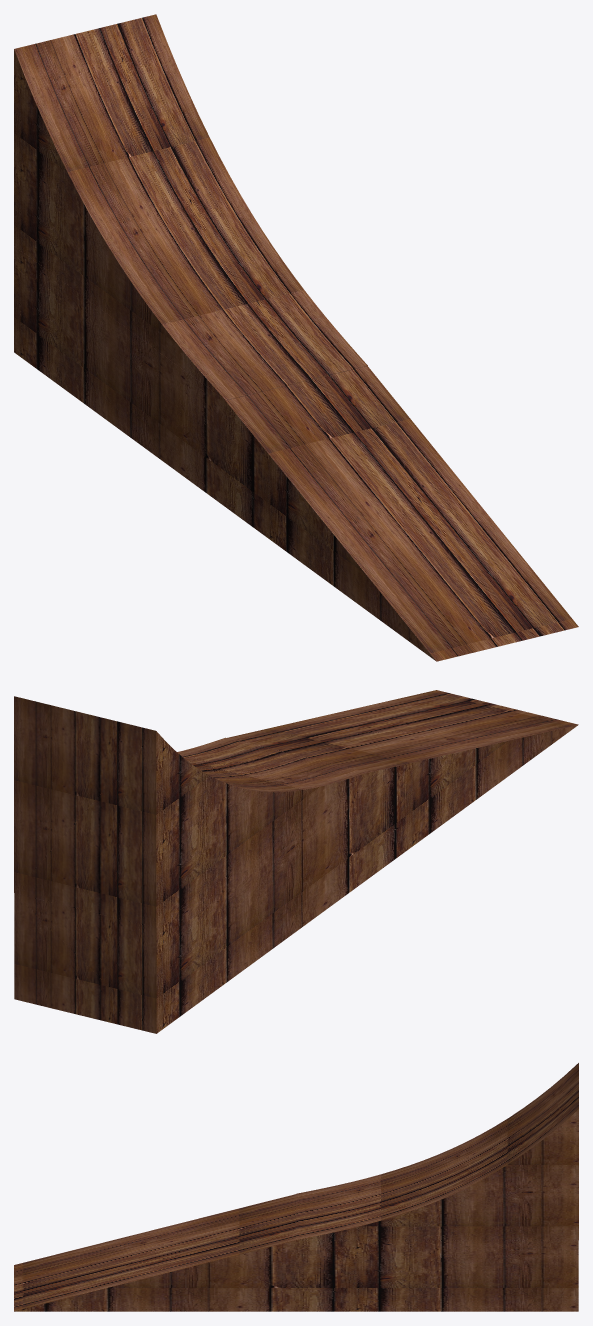
The model's file is Modle_Spring_platform.fbx.
The picture shows the model from 3 angles, top to bottom: view 1: azimuth 30°, elevation 25°; view 2: azimuth 150°, elevation 25°; view 3: azimuth 270°, elevation 25°; orthographic projection. The views are drawn at different scales.
Parts seen in each view (by area): view 1: Box _LOD0; view 2: Box _LOD0; view 3: Box _LOD0.
Part boxes in pixels (box(x1,y1,x2,y2)): Box _LOD0: box(14, 14, 578, 661); Box _LOD0: box(14, 690, 578, 1033); Box _LOD0: box(14, 1063, 578, 1311).
Size of what is drawn, in the model's own units: 70.04 by 143 by 360.
1 material, 1 textured.
